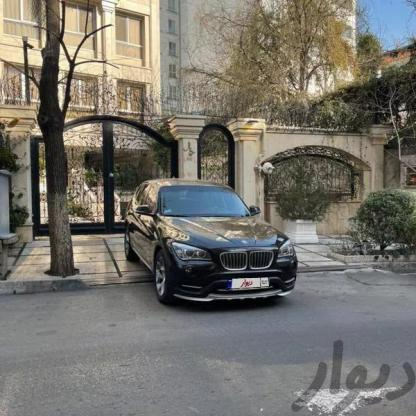Car: (115, 174, 307, 318)
